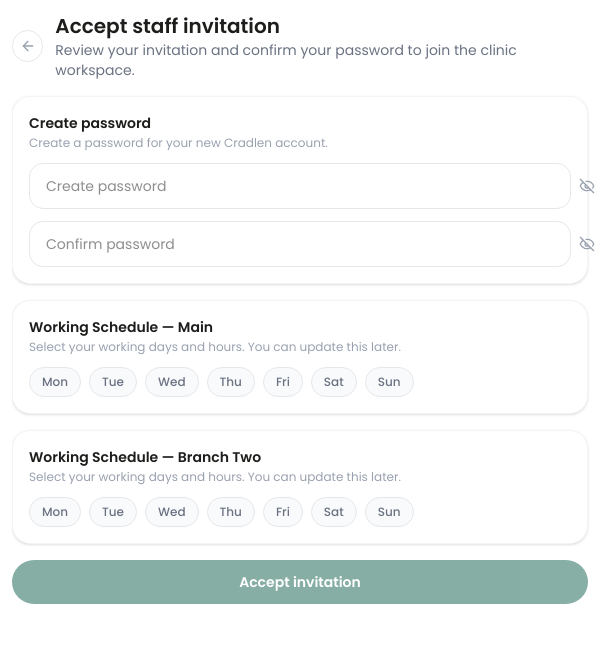
Test: AcceptStep (StaffInviteAcceptStep) › ignores within-card structure but keeps day buttons scoped per branch
Expected: the text "Working Schedule — Main" is shown 2 times, [29,317,213,337]; [29,447,261,467]
# toggling a day in the first branch card only affects that card
Click the button "Mon" below "Main" at point(55, 382), box [29,367,81,397]
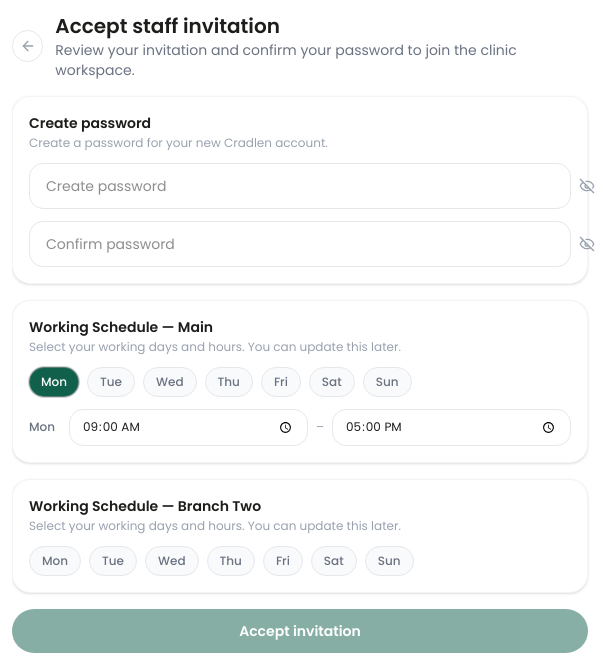
Expected: the 1st time field showing "09:00" is shown, [69,409,308,446]
